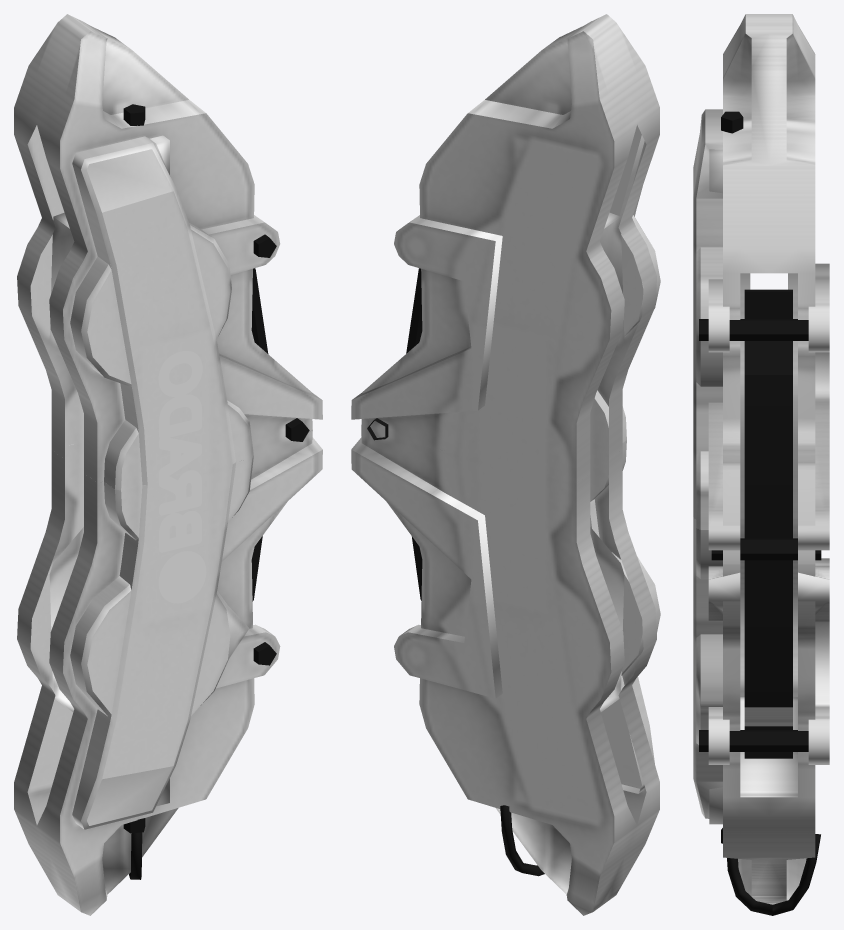
Rendered from brake_04_R.FBX.
The picture shows the model from 3 angles, left to right: view 1: azimuth 30°, elevation 25°; view 2: azimuth 150°, elevation 25°; view 3: azimuth 270°, elevation 25°; orthographic projection.
Parts seen in each view (by area): view 1: brake_014; view 2: brake_014; view 3: brake_014.
Part boxes in pixels (x1,y1,x2,y2): brake_014: [14, 14, 322, 915]; brake_014: [351, 14, 660, 915]; brake_014: [693, 14, 829, 915].
Size of the model in its own units: 0.1086 by 0.0511 by 0.3587.
